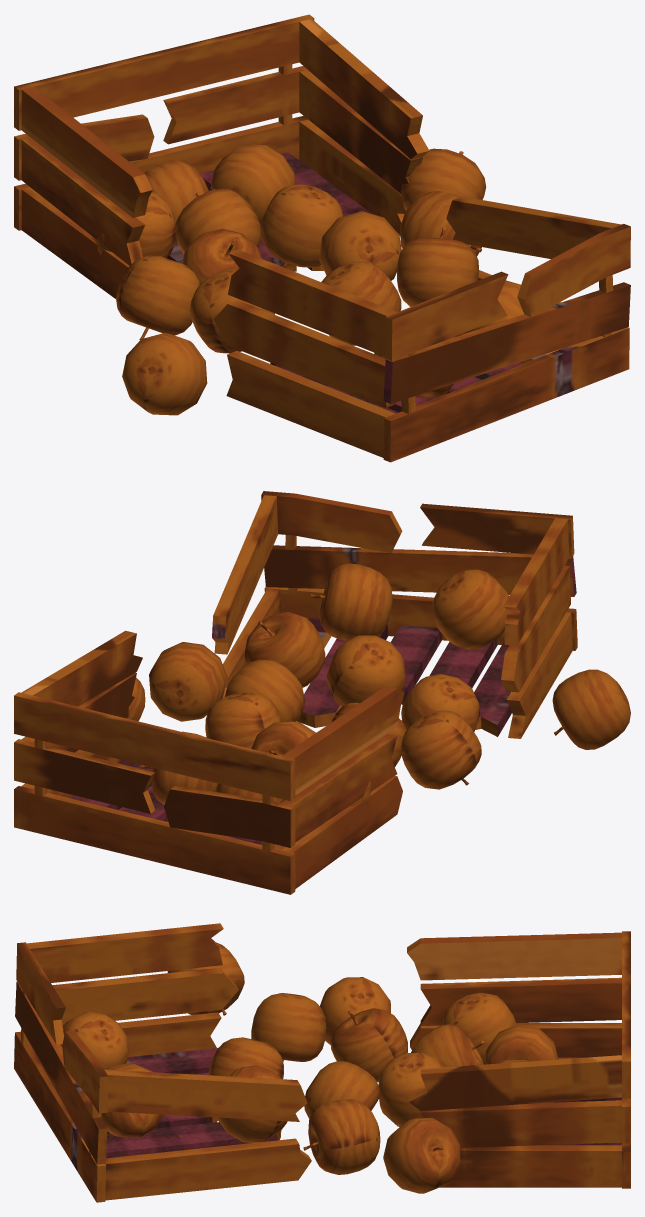
The model's file is broken fruit crate_4.fbx.
3 views of the same model, one above another, from view 1: azimuth 30°, elevation 25°; view 2: azimuth 150°, elevation 25°; view 3: azimuth 270°, elevation 25° (orthographic). The views are drawn at different scales.
Visible parts, largest first — view 1: Cube.030, Cube.031, Plane.1900, Plane.1902, Plane.1898, Plane.1909, Plane.1896, Plane.1903, Plane.1897, Plane.1895, Plane.1899, Plane.1910 (+5 smaller); view 2: Cube.031, Cube.030, Plane.1902, Plane.1908, Plane.1904, Plane.1900, Plane.1906, Plane.1901, Plane.1909, Plane.1898, Plane.1899, Plane.1896 (+3 smaller); view 3: Cube.030, Cube.031, Plane.1895, Plane.1908, Plane.1899, Plane.1910, Plane.1898, Plane.1896, Plane.1905, Plane.1902, Plane.1904, Plane.1907 (+5 smaller).
Boxes of the visible parts, <box> form: Cube.030: <box>213,196,630,462</box>; Cube.031: <box>14,14,429,298</box>; Plane.1900: <box>122,333,207,415</box>; Plane.1902: <box>116,255,199,339</box>; Plane.1898: <box>260,184,342,267</box>; Plane.1909: <box>397,227,479,306</box>; Plane.1896: <box>319,211,401,280</box>; Plane.1903: <box>210,144,295,225</box>; Plane.1897: <box>175,188,260,253</box>; Plane.1895: <box>401,148,486,210</box>; Plane.1899: <box>190,269,274,353</box>; Plane.1910: <box>182,228,261,284</box>; Cube.031: <box>14,630,404,894</box>; Cube.030: <box>212,491,577,738</box>; Plane.1902: <box>401,710,481,789</box>; Plane.1908: <box>149,642,227,721</box>; Plane.1904: <box>432,569,508,650</box>; Plane.1900: <box>552,669,630,749</box>; Plane.1906: <box>310,563,392,640</box>; Plane.1901: <box>326,635,404,706</box>; Plane.1909: <box>245,611,325,687</box>; Plane.1898: <box>205,692,281,748</box>; Plane.1899: <box>401,674,480,731</box>; Plane.1896: <box>224,659,305,721</box>; Cube.030: <box>14,923,311,1202</box>; Cube.031: <box>407,931,630,1188</box>; Plane.1895: <box>383,1117,460,1193</box>; Plane.1908: <box>303,1099,380,1174</box>; Plane.1899: <box>251,993,326,1061</box>; Plane.1910: <box>330,1008,407,1082</box>; Plane.1898: <box>378,1052,443,1126</box>; Plane.1896: <box>304,1061,379,1123</box>; Plane.1905: <box>443,992,516,1064</box>; Plane.1902: <box>320,977,390,1044</box>; Plane.1904: <box>61,1012,128,1069</box>; Plane.1907: <box>485,1024,558,1064</box>.
Size of the model in its own units: 42.98 by 13.31 by 53.78.
